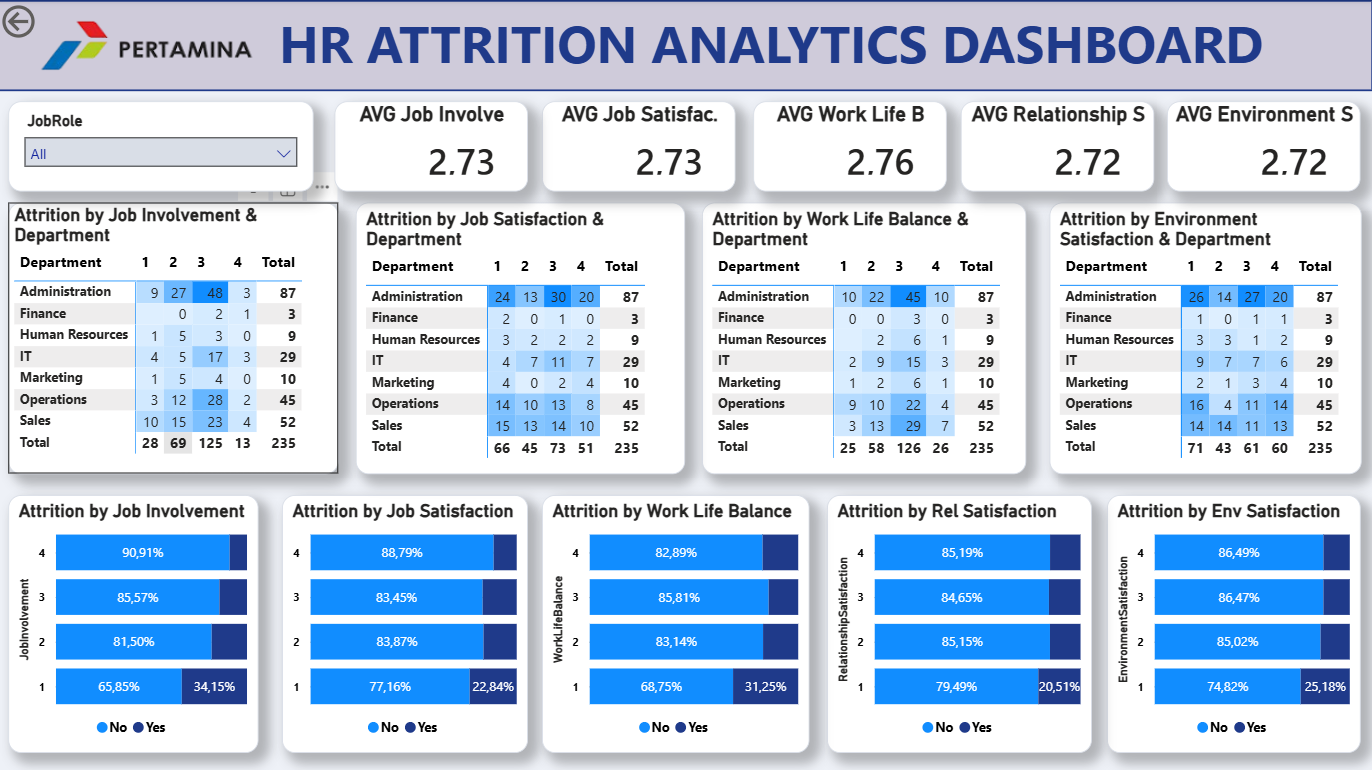

This screenshot's page, from the dashboard's own definition file:
{"tool":"powerbi","page":{"name":"Satisfaction","canvas":[1280,720],"ordinal":3},"visuals":[{"type":"textbox","box":[0,0,1280.3,85.1],"z":0},{"type":"image","box":[30,0,217.5,85],"z":1000},{"type":"pivotTable","title":"Attrition by Job Involvement & Department","fields":{"Values":["Sum(HR_Analytics_4.AttritionCount)"],"Columns":["HR_Analytics_4.JobInvolvement"],"Rows":["HR_Analytics_4.Department"]},"box":[10,188.8,307.5,252.5],"z":2000},{"type":"hundredPercentStackedBarChart","title":"Attrition by Job Satisfaction","fields":{"Category":["HR_Analytics_4.JobSatisfaction"],"Y":["CountNonNull(HR_Analytics_4.EmpID)"],"Series":["HR_Analytics_4.Attrition"]},"box":[265,460,228.8,240],"z":3000},{"type":"pivotTable","title":"Attrition by Environment Satisfaction & Department","fields":{"Values":["Sum(HR_Analytics_4.AttritionCount)"],"Columns":["HR_Analytics_4.EnvironmentSatisfaction"],"Rows":["HR_Analytics_4.Department"]},"box":[978.8,188.8,290,252.5],"z":4000},{"type":"hundredPercentStackedBarChart","title":"Attrition by Env Satisfaction","fields":{"Category":["HR_Analytics_4.EnvironmentSatisfaction"],"Y":["CountNonNull(HR_Analytics_4.EmpID)"],"Series":["HR_Analytics_4.Attrition"]},"box":[1032.5,460,236.2,240],"z":5000},{"type":"hundredPercentStackedBarChart","title":"Attrition by Rel Satisfaction","fields":{"Category":["HR_Analytics_4.RelationshipSatisfaction"],"Y":["CountNonNull(HR_Analytics_4.EmpID)"],"Series":["HR_Analytics_4.Attrition"]},"box":[772.5,460,246.2,240],"z":6000},{"type":"hundredPercentStackedBarChart","title":"Attrition by Work Life Balance","fields":{"Category":["HR_Analytics_4.WorkLifeBalance"],"Y":["CountNonNull(HR_Analytics_4.EmpID)"],"Series":["HR_Analytics_4.Attrition"]},"box":[507.5,460,248.8,240],"z":7000},{"type":"hundredPercentStackedBarChart","title":"Attrition by Job Involvement","fields":{"Y":["CountNonNull(HR_Analytics_4.EmpID)"],"Series":["HR_Analytics_4.Attrition"],"Category":["HR_Analytics_4.JobInvolvement"]},"box":[10,460,232.5,240],"z":8000},{"type":"pivotTable","title":"Attrition by Work Life Balance & Department","fields":{"Values":["Sum(HR_Analytics_4.AttritionCount)"],"Rows":["HR_Analytics_4.Department"],"Columns":["HR_Analytics_4.WorkLifeBalance"]},"box":[656.2,188.8,301.2,252.5],"z":9000},{"type":"pivotTable","title":"Attrition by Job Satisfaction & Department","fields":{"Values":["Sum(HR_Analytics_4.AttritionCount)"],"Rows":["HR_Analytics_4.Department"],"Columns":["HR_Analytics_4.JobSatisfaction"]},"box":[333.8,188.8,306.2,252.5],"z":10000},{"type":"cardVisual","title":"AVG Job Satisfac.","fields":{"Data":["Avg(HR_Analytics_4.JobSatisfaction)"]},"box":[507.5,93.8,180,83.8],"z":11000},{"type":"cardVisual","title":"AVG Work Life B","fields":{"Data":["Avg(HR_Analytics_4.WorkLifeBalance)"]},"box":[703.8,93.8,180,83.8],"z":12000},{"type":"cardVisual","title":"AVG Relationship S","fields":{"Data":["Avg(HR_Analytics_4.RelationshipSatisfaction)"]},"box":[896.2,93.8,180,83.8],"z":13000},{"type":"cardVisual","title":"AVG Job Involve","fields":{"Data":["Avg(HR_Analytics_4.JobInvolvement)"]},"box":[313.8,93.8,180,83.8],"z":14000},{"type":"cardVisual","title":"AVG Environment S","fields":{"Data":["Avg(HR_Analytics_4.EnvironmentSatisfaction)"]},"box":[1088.8,93.8,180,83.8],"z":15000},{"type":"slicer","fields":{"Values":["HR_Analytics_4.JobRole"]},"box":[10,93.8,283.8,83.8],"z":16000},{"type":"actionButton","box":[0,0,100,40],"z":17000}]}

Visuals, with their boxes in screenshot pixels (x1, y1, x2, y2), scaled from the page's 1280x720 canvas onto the 1372x770 screenshot:
textbox: x1=0, y1=0, x2=1371, y2=91
image: x1=32, y1=0, x2=265, y2=91
"Attrition by Job Involvement & Department" pivotTable: x1=11, y1=202, x2=340, y2=472
"Attrition by Job Satisfaction" hundredPercentStackedBarChart: x1=284, y1=492, x2=529, y2=749
"Attrition by Environment Satisfaction & Department" pivotTable: x1=1049, y1=202, x2=1360, y2=472
"Attrition by Env Satisfaction" hundredPercentStackedBarChart: x1=1107, y1=492, x2=1360, y2=749
"Attrition by Rel Satisfaction" hundredPercentStackedBarChart: x1=828, y1=492, x2=1092, y2=749
"Attrition by Work Life Balance" hundredPercentStackedBarChart: x1=544, y1=492, x2=811, y2=749
"Attrition by Job Involvement" hundredPercentStackedBarChart: x1=11, y1=492, x2=260, y2=749
"Attrition by Work Life Balance & Department" pivotTable: x1=703, y1=202, x2=1026, y2=472
"Attrition by Job Satisfaction & Department" pivotTable: x1=358, y1=202, x2=686, y2=472
"AVG Job Satisfac." cardVisual: x1=544, y1=100, x2=737, y2=190
"AVG Work Life B" cardVisual: x1=754, y1=100, x2=947, y2=190
"AVG Relationship S" cardVisual: x1=961, y1=100, x2=1154, y2=190
"AVG Job Involve" cardVisual: x1=336, y1=100, x2=529, y2=190
"AVG Environment S" cardVisual: x1=1167, y1=100, x2=1360, y2=190
slicer - HR_Analytics_4.JobRole: x1=11, y1=100, x2=315, y2=190
actionButton: x1=0, y1=0, x2=107, y2=43
